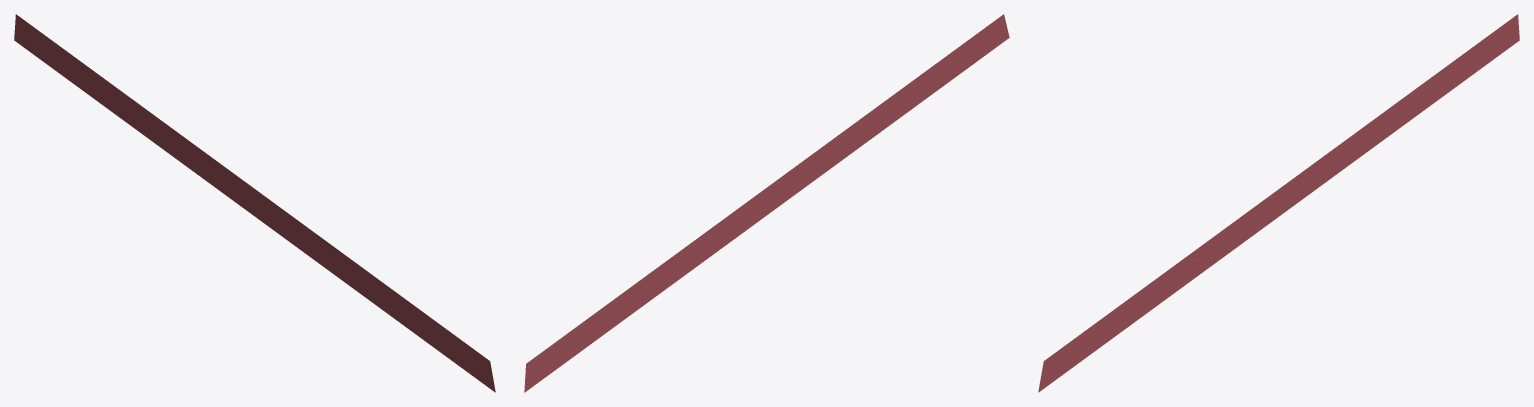
The model's file is kd_stage_135ded_4_70_exterior_piece_7.glb.
The picture shows the model from 3 angles, left to right: view 1: azimuth 30°, elevation 25°; view 2: azimuth 150°, elevation 25°; view 3: azimuth 330°, elevation 25°; orthographic projection.
Parts seen in each view (by area): view 1: kd_stage_135ded_4_70_exterior_piece_7; view 2: kd_stage_135ded_4_70_exterior_piece_7; view 3: kd_stage_135ded_4_70_exterior_piece_7.
Part boxes in pixels (x1=…): kd_stage_135ded_4_70_exterior_piece_7: x1=14, y1=14, x2=495, y2=392; kd_stage_135ded_4_70_exterior_piece_7: x1=524, y1=14, x2=1009, y2=392; kd_stage_135ded_4_70_exterior_piece_7: x1=1038, y1=14, x2=1519, y2=392.
Size of the model in its own units: 0 by 0.0647 by 2.04.
Materials: 1 (1 with a texture image).
